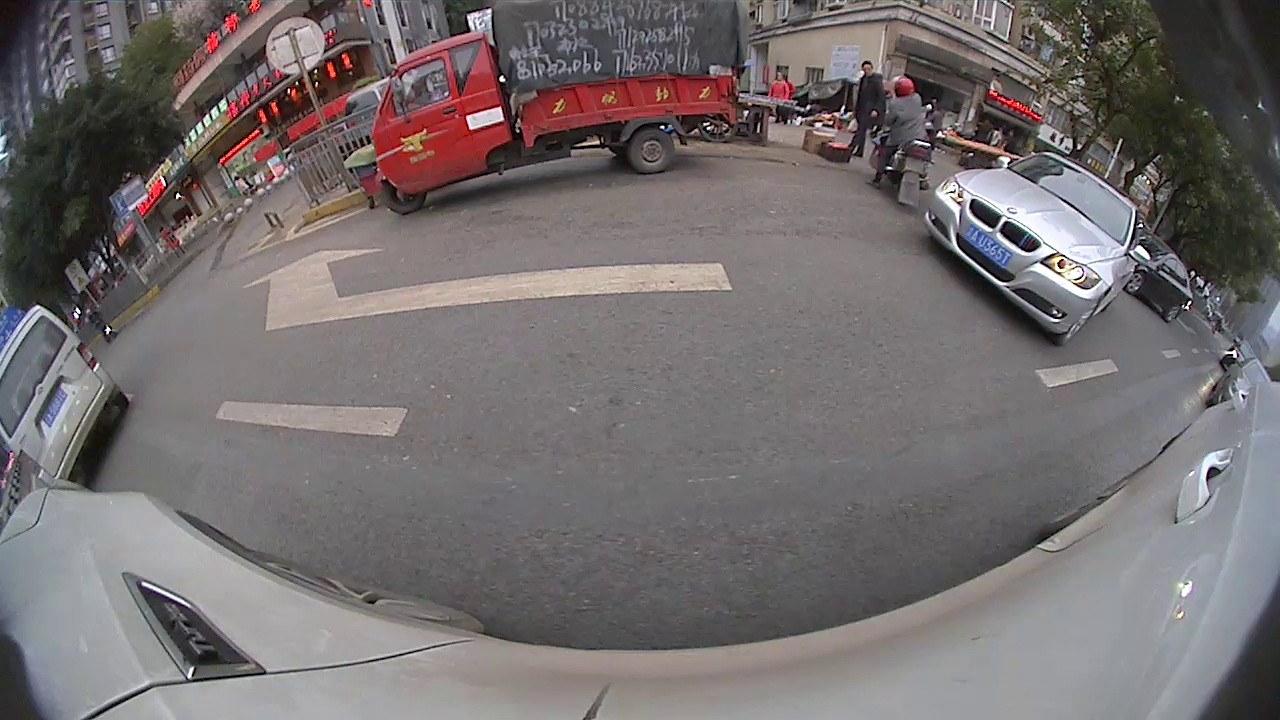car: (917, 145, 1157, 349), (0, 303, 127, 487), (1118, 229, 1195, 326), (1205, 358, 1275, 421)
front: (377, 175, 433, 216)
person: (856, 59, 881, 159)
rear: (624, 129, 681, 172)
rider: (367, 1, 756, 219), (872, 72, 939, 213)
